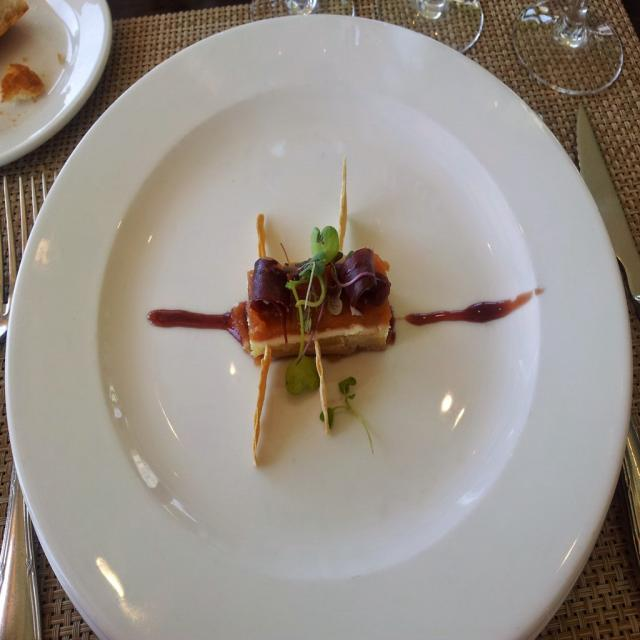non-organic waste: (19, 15, 640, 640)
